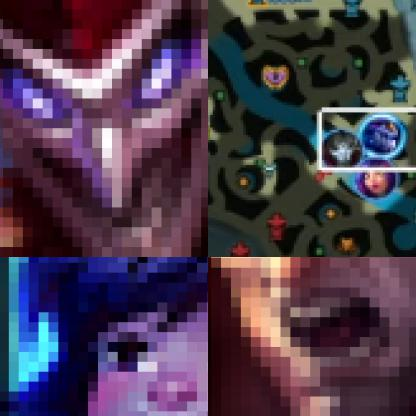Aurelion Sol: (362, 118, 406, 160)
Darius: (208, 257, 415, 415)
Jhin: (321, 130, 364, 172)
Neeko: (353, 158, 399, 199)
Nunu and Willump: (0, 257, 207, 415)
Shaco: (0, 0, 207, 256)
